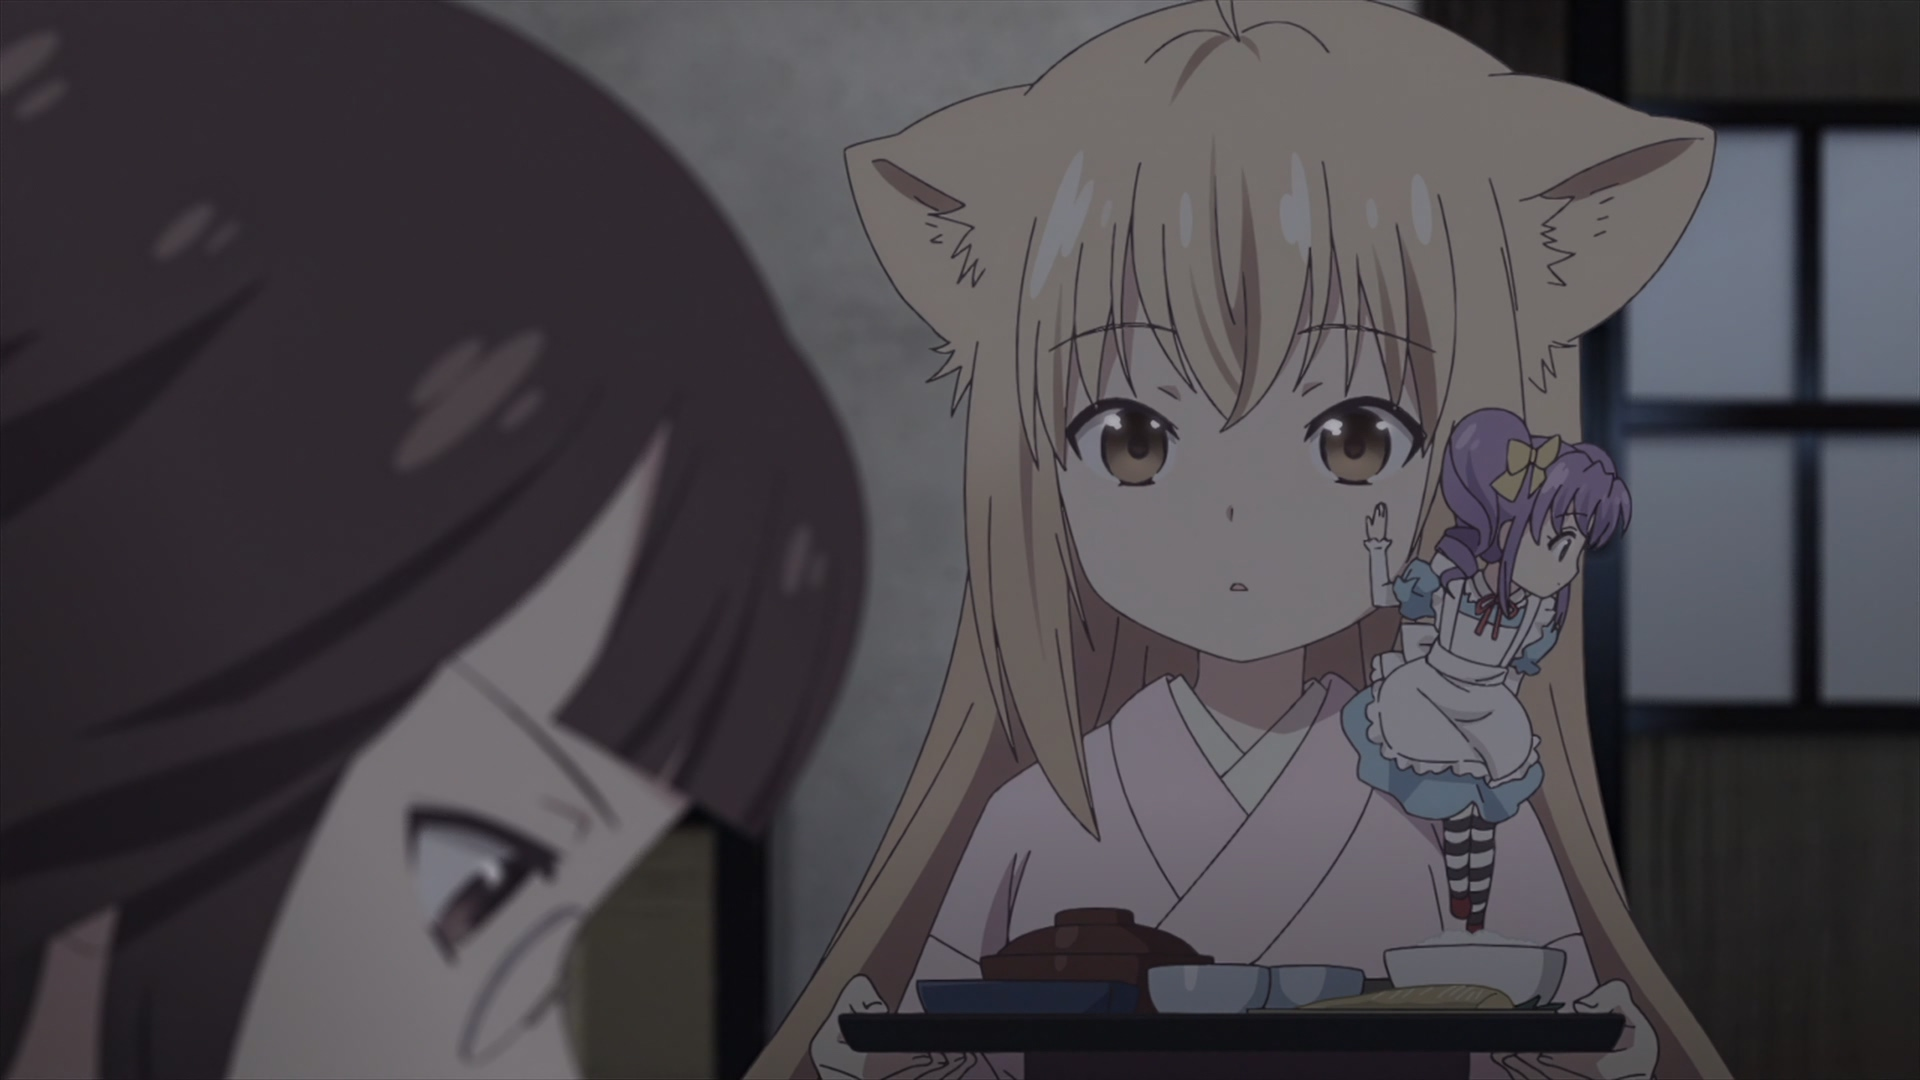其他: (1, 1, 870, 1080)
柚: (746, 1, 1731, 1080)
阿菊: (1340, 407, 1633, 936)
